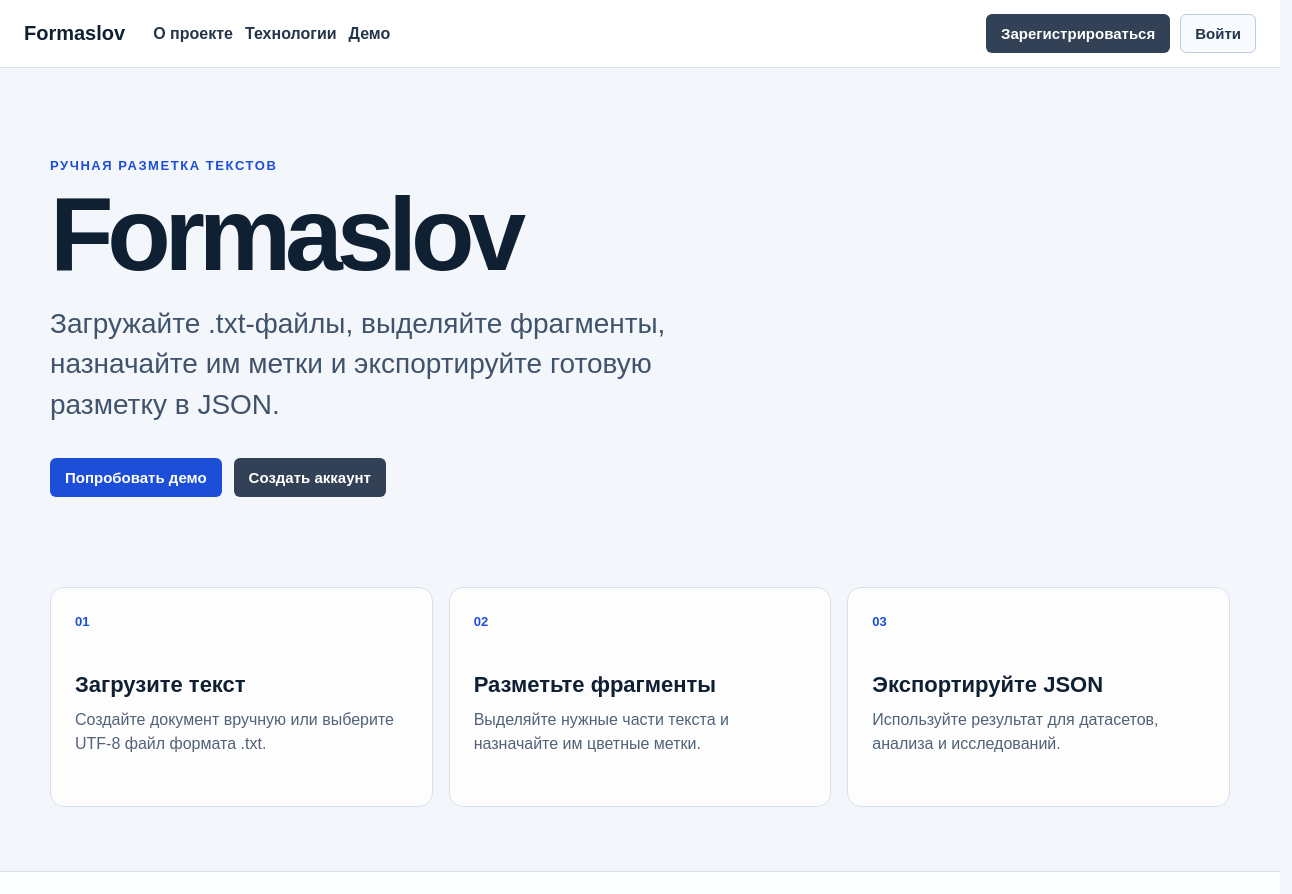
opens a static read-only demo without creating auth tokens
Click the link "Попробовать демо": [136, 477] box [50,458,222,497]
(page scrolled)
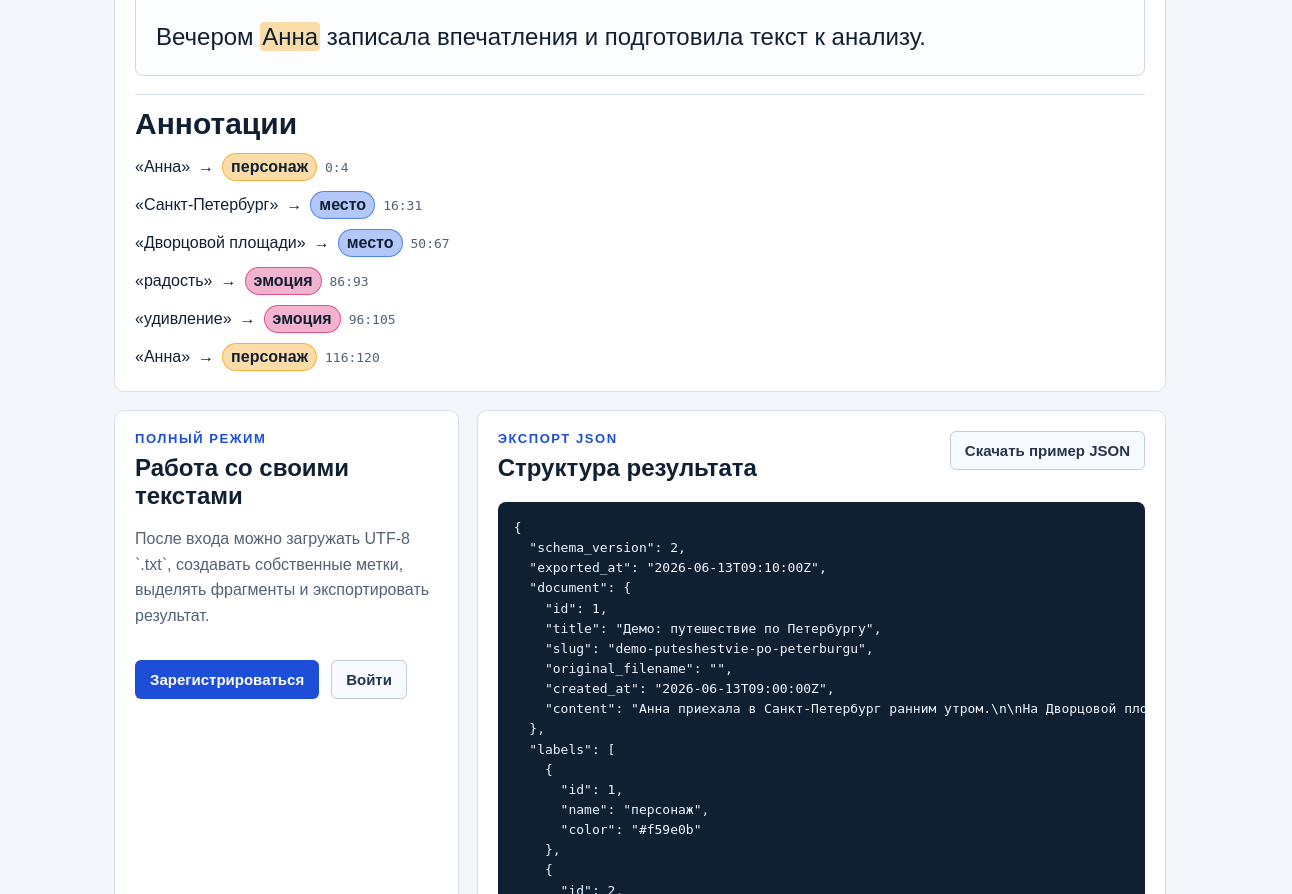
Expected: the button "Скачать пример JSON" is shown, [950,431,1145,470]
